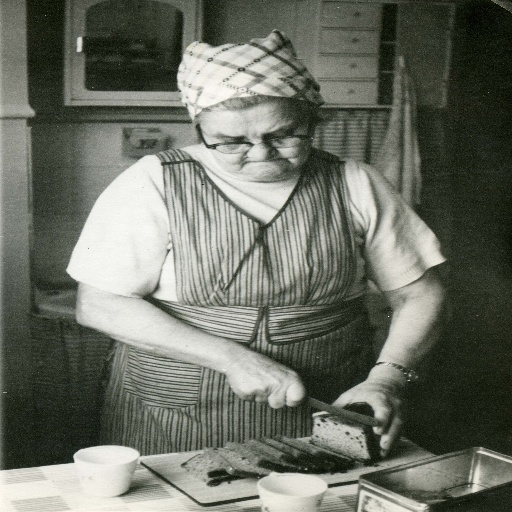hand: (203, 338, 328, 415), (326, 377, 407, 459)
